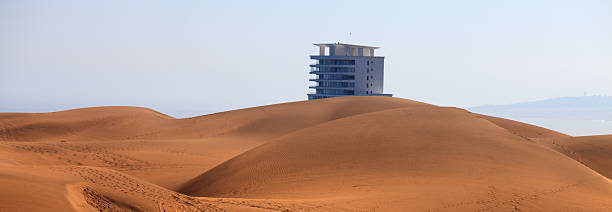human_footprint: (34, 139, 212, 211)
